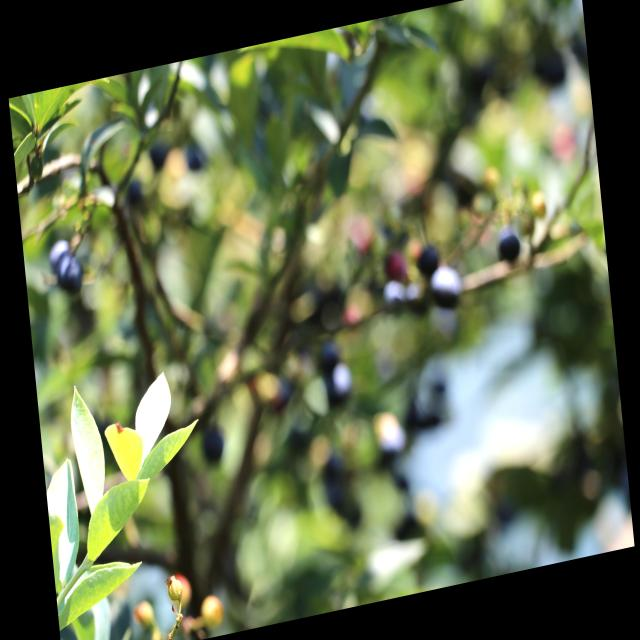blueberry: (428, 260, 466, 312), (52, 249, 84, 292), (494, 226, 524, 270)
blueberry-unripe: (164, 572, 186, 607)
